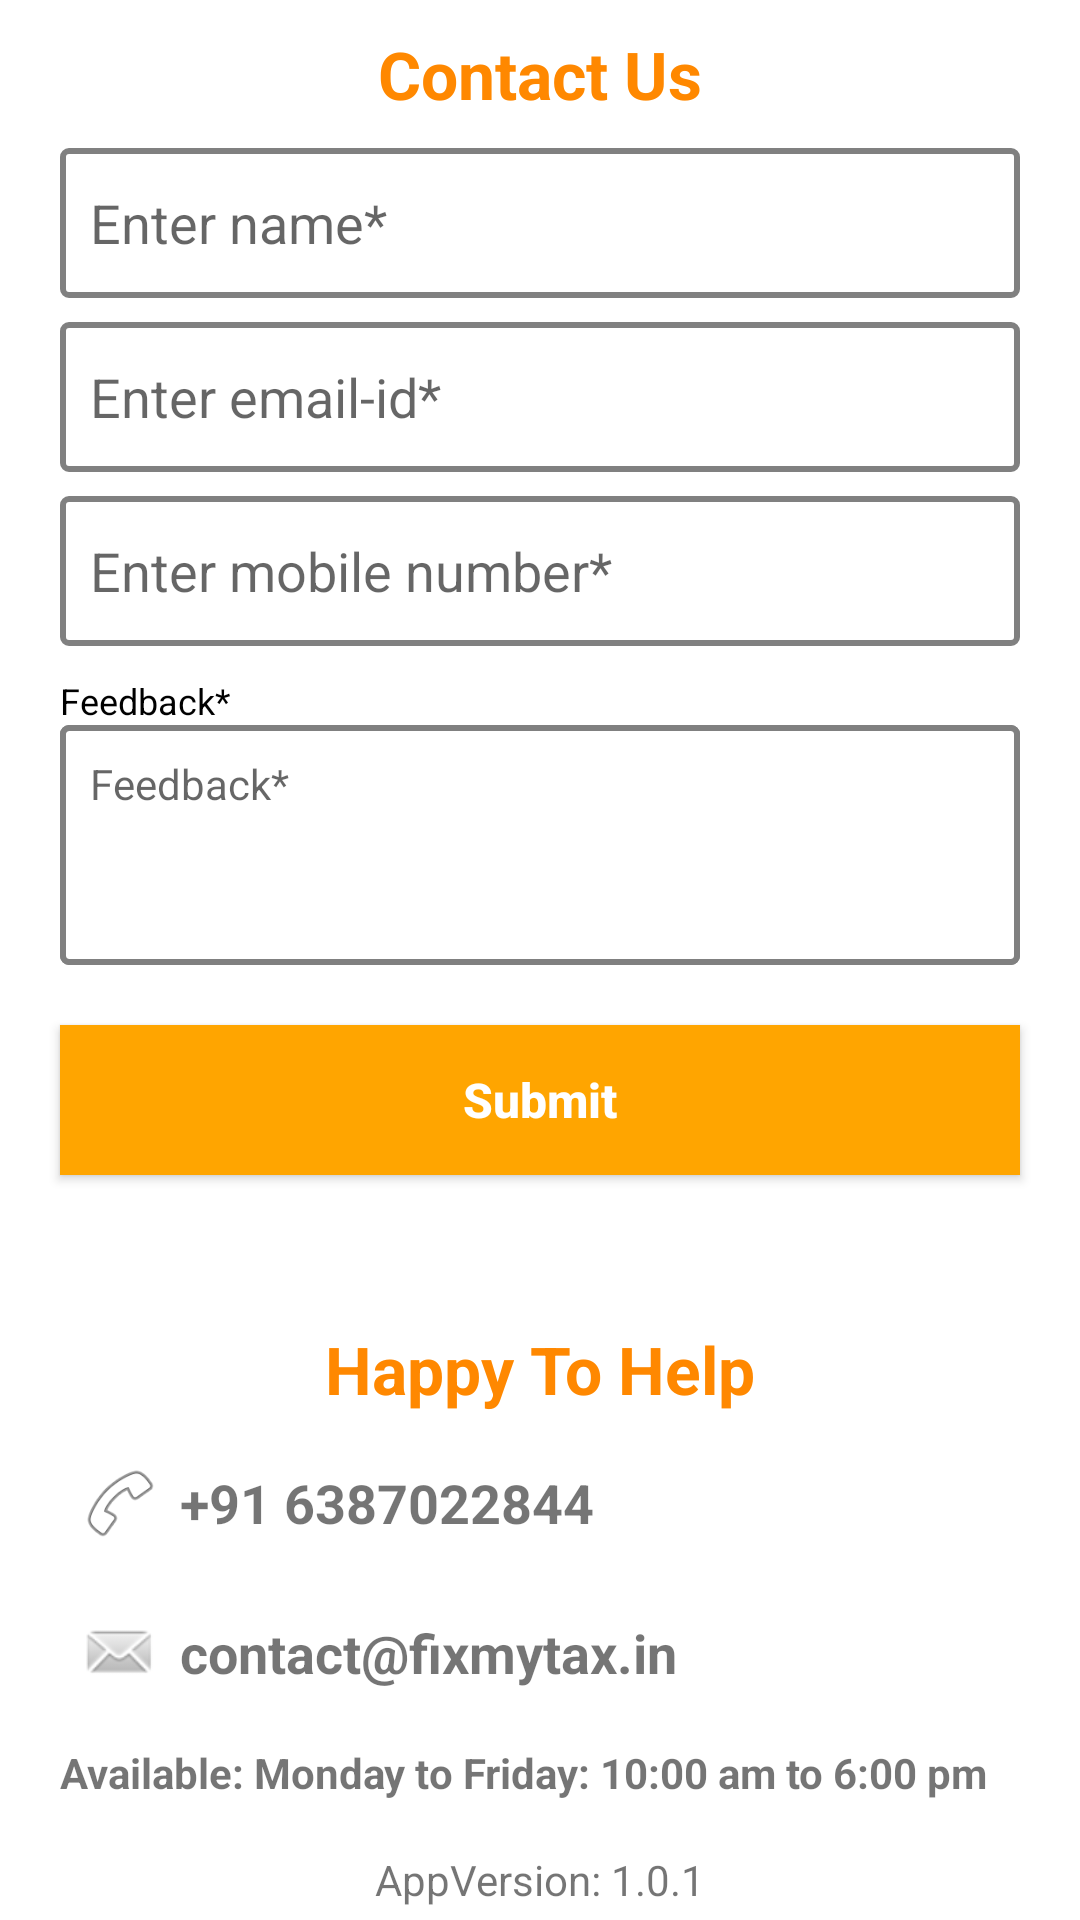

Named icons in this screenshot (1080px×1920px) and their bounding boxes, box(x1, y1, x2, y2):
call: box(88, 1471, 153, 1536)
sym action email: box(87, 1631, 151, 1673)
